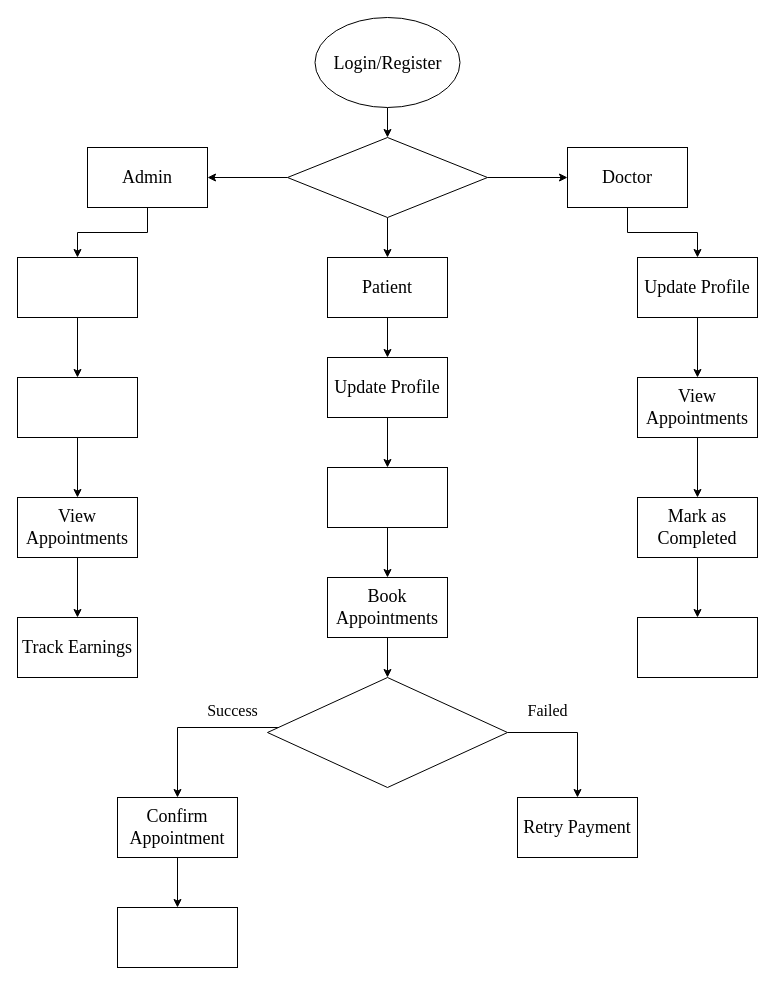
Some shapes in this 775 by 985 pixel diagram are drawn without their labels. Each missing label, with the centre of its shape:
Add Doctor Details: pixel 77 287
Filter Doctors: pixel 387 497
Identify user Role: pixel 387 177
Payments Success/Failure: pixel 387 732
Update Doctor Availability: pixel 77 407
View Earnings: pixel 697 647
View/ Cancel Appointment: pixel 177 937
